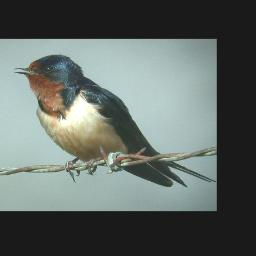Swallow: (13, 54, 217, 188)
